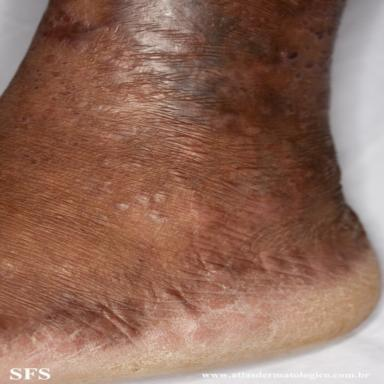Epidermolysis-Bullosa-Pruriginosa: (29, 0, 368, 289)
